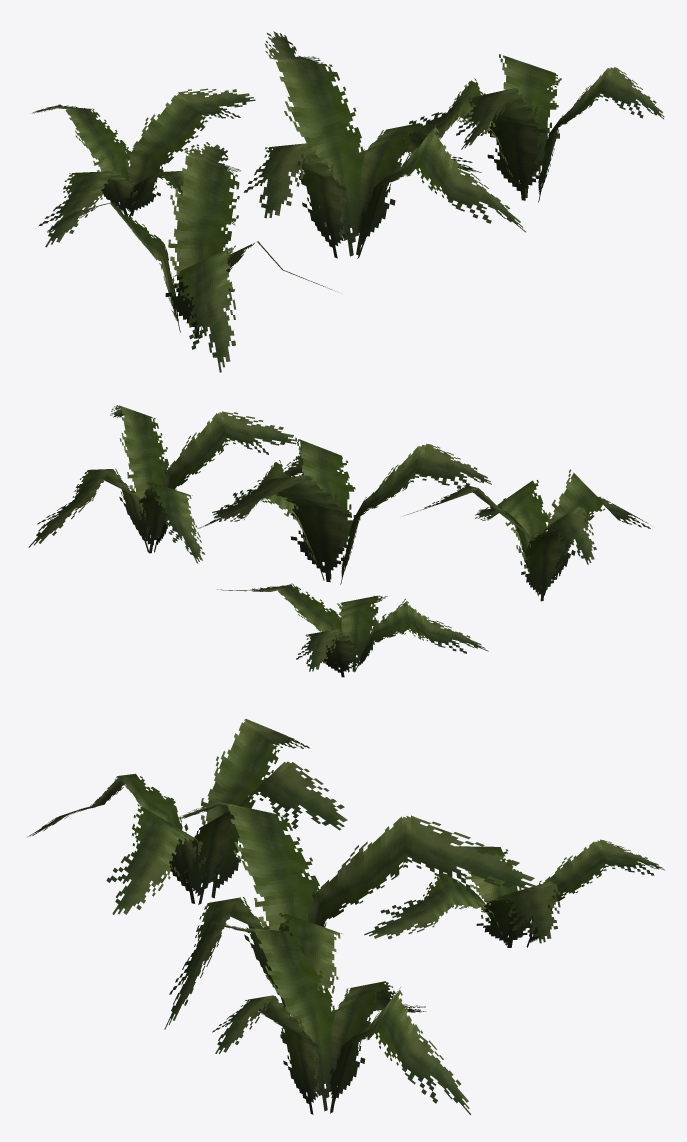
The model's file is Grass05.glb.
3 views of the same model, one above another, from view 1: azimuth 30°, elevation 25°; view 2: azimuth 150°, elevation 25°; view 3: azimuth 270°, elevation 25° (orthographic). The views are drawn at different scales.
Parts seen in each view (by area): view 1: Grass05; view 2: Grass05; view 3: Grass05.
Boxes of the visible parts, x1=… form: Grass05: x1=32, y1=31, x2=664, y2=372; Grass05: x1=28, y1=405, x2=650, y2=677; Grass05: x1=27, y1=719, x2=664, y2=1114.
Bounding box in the file's own units: 3.22 × 0.873 × 2.75.
1 material, 1 textured.
